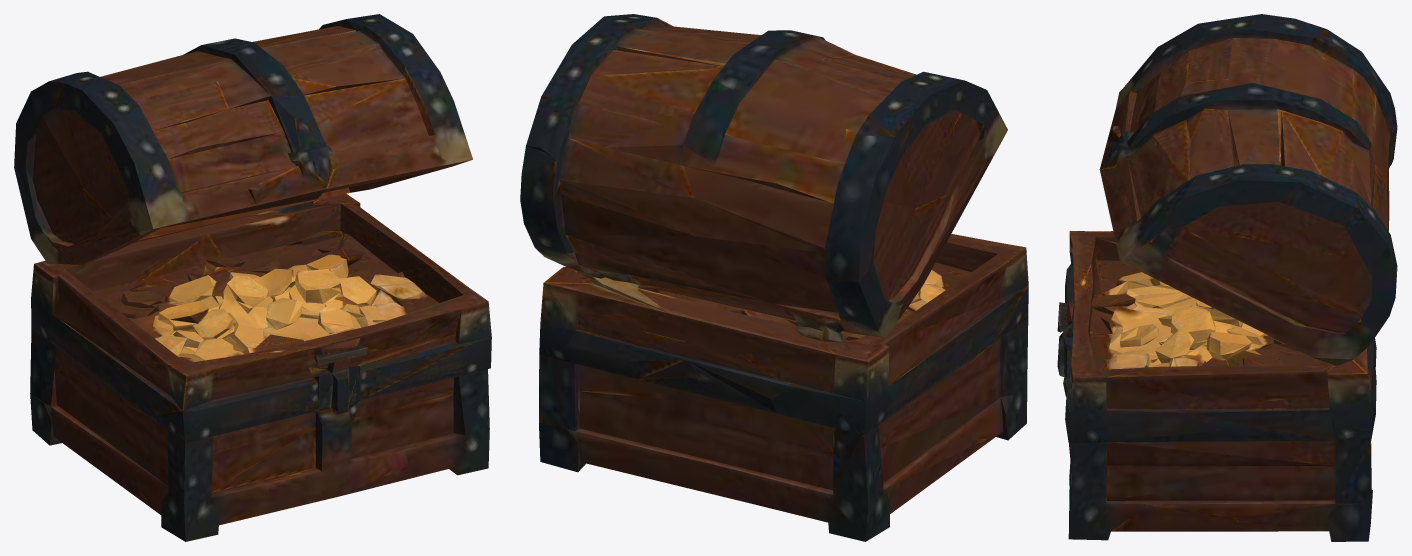
The model's file is chest_open.glb.
3 views of the same model, side by side, from view 1: azimuth 30°, elevation 25°; view 2: azimuth 150°, elevation 25°; view 3: azimuth 270°, elevation 25° (orthographic). The views are drawn at different scales.
Size of the model in its own units: 1.68 by 1.9 by 1.54.
Materials: 1 (1 with a texture image).
